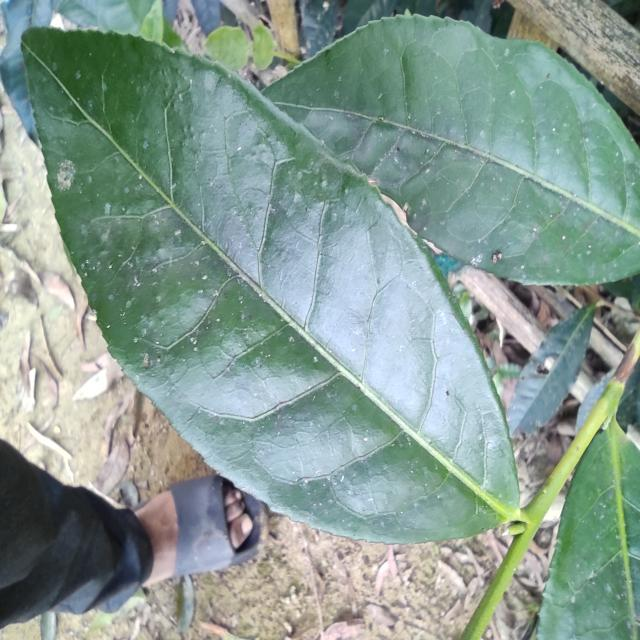Category D(7+ days, Not for Tea): (13, 20, 527, 546)
